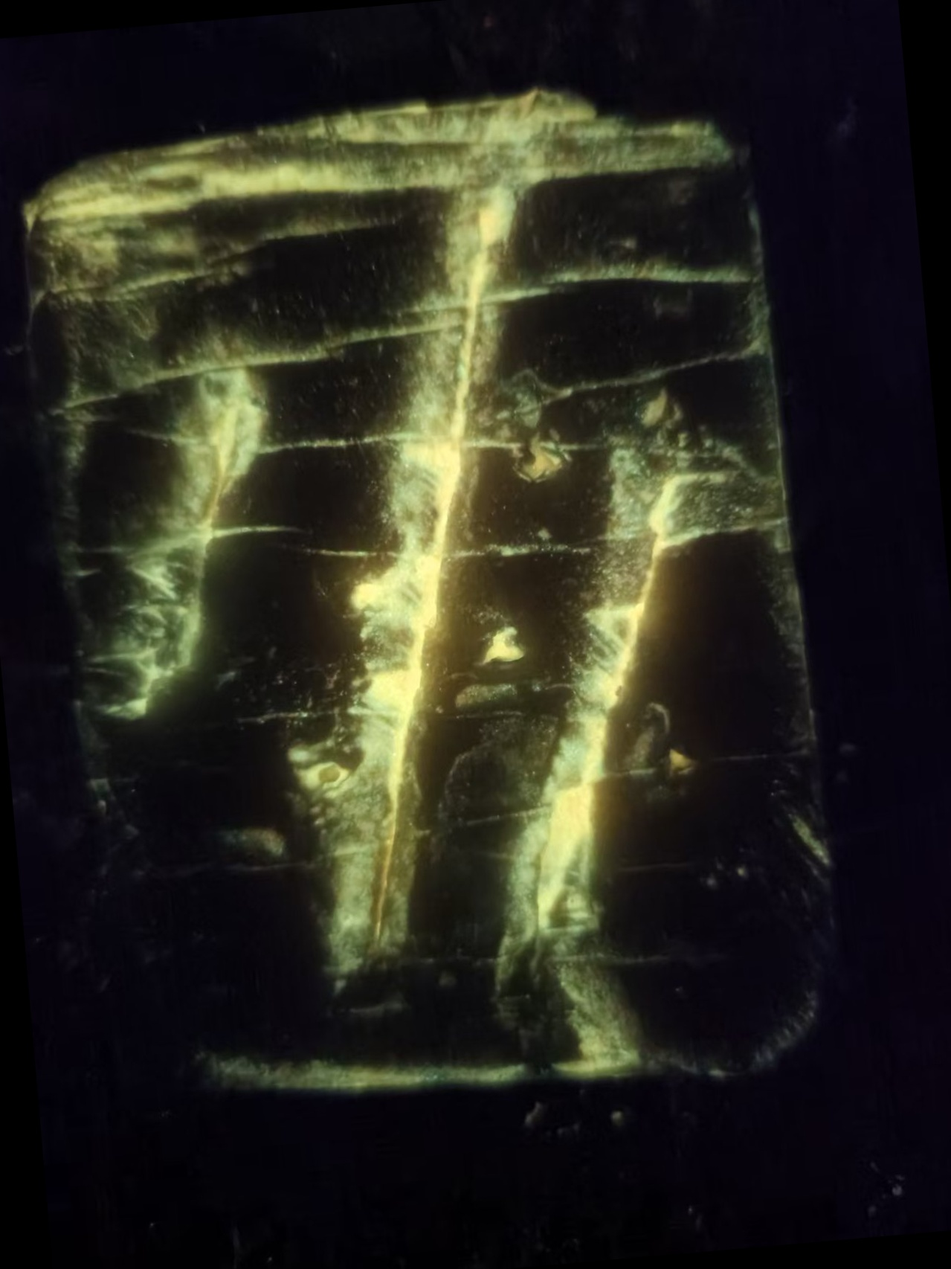Fissure: (248, 172, 605, 999), (427, 416, 754, 981), (61, 331, 322, 734)
